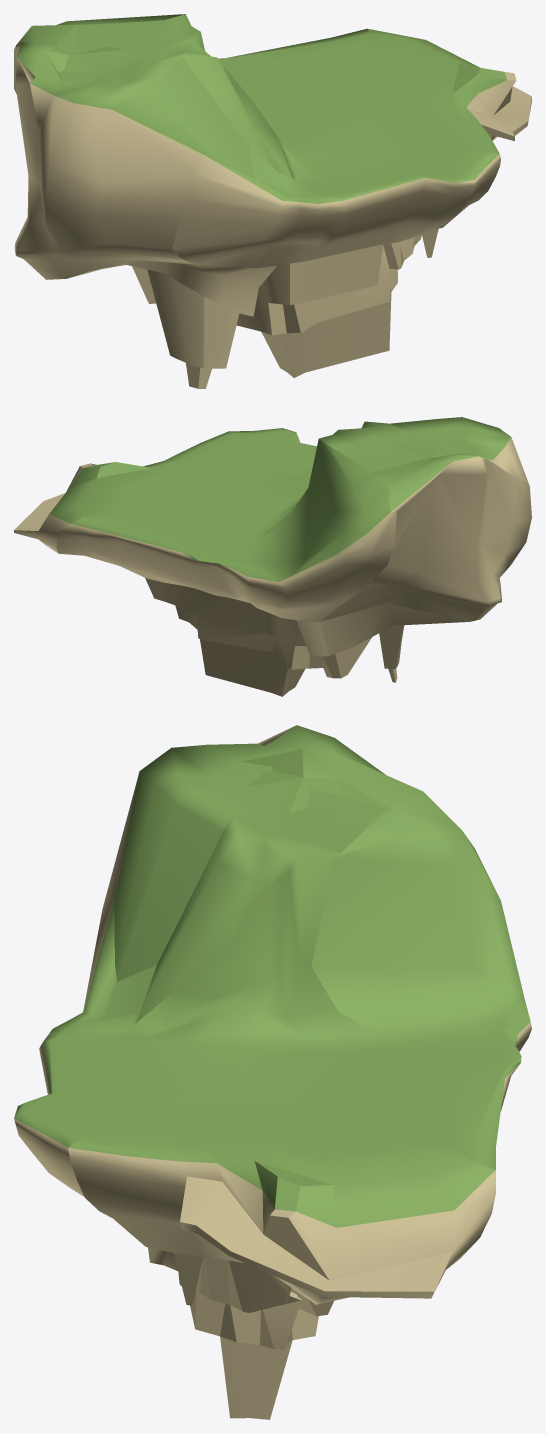
File: Tutorial_Island_2_1_h_30m (3).fbx
The picture shows the model from 3 angles, top to bottom: view 1: azimuth 30°, elevation 25°; view 2: azimuth 150°, elevation 25°; view 3: azimuth 270°, elevation 25°; orthographic projection. The views are drawn at different scales.
Visible parts, largest first — view 1: pCube1; view 2: pCube1; view 3: pCube1.
Part boxes in pixels (x1,y1,x2,y2): pCube1: (14,14,531,388); pCube1: (14,417,531,696); pCube1: (14,725,531,1419).
Size of the model in its own units: 33.99 by 21.82 by 21.41.
